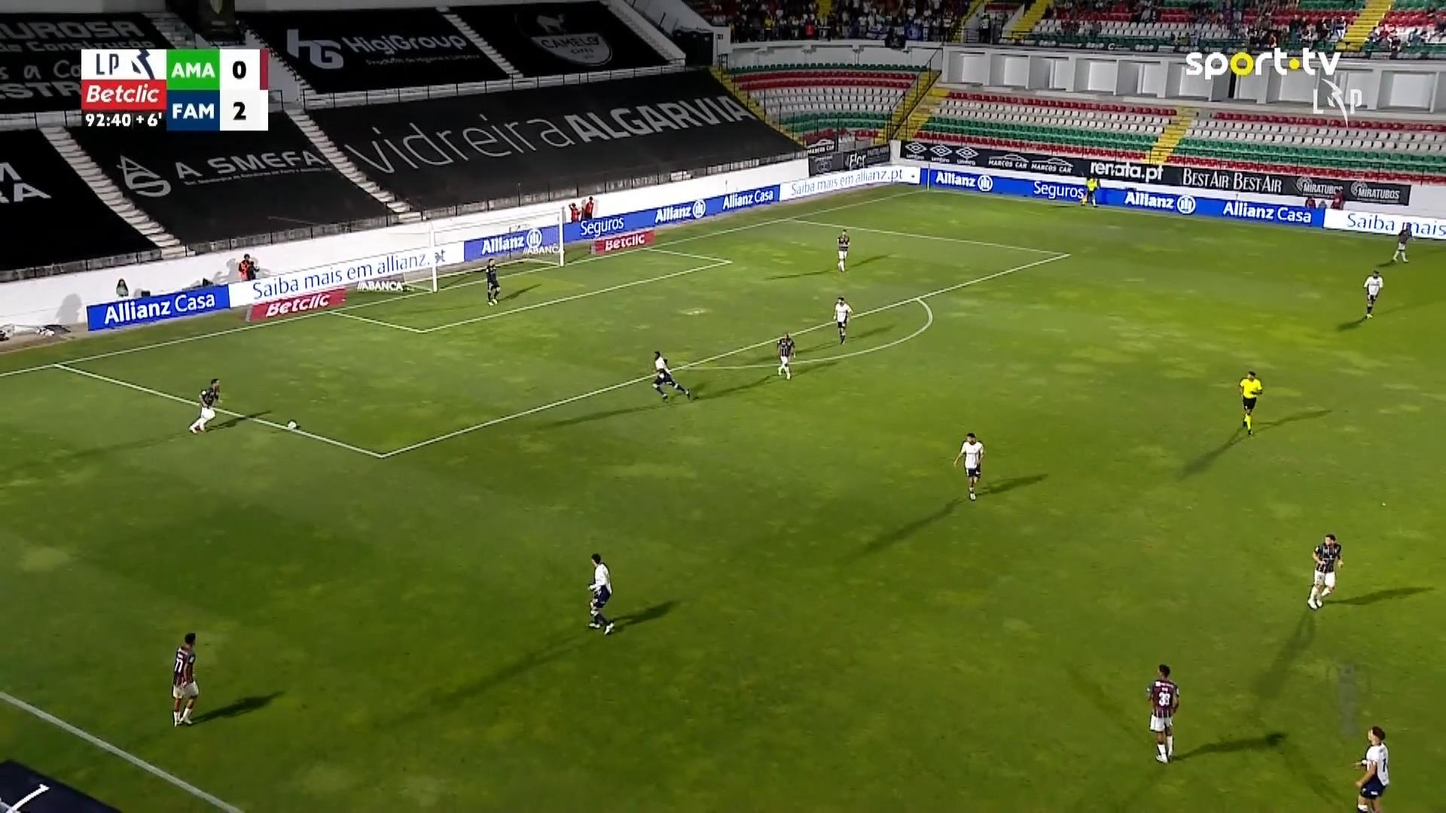ball: (286, 419, 297, 431)
goalkeeper: (484, 258, 500, 306)
player: (1145, 662, 1179, 763), (1353, 725, 1390, 811), (1306, 532, 1343, 610), (170, 632, 200, 726), (585, 552, 615, 635), (953, 431, 984, 501), (651, 350, 691, 401), (188, 377, 221, 434), (1362, 269, 1383, 318), (832, 296, 853, 344), (775, 331, 795, 380), (1391, 221, 1411, 263), (835, 228, 850, 272)
referee: (1238, 370, 1262, 436), (1084, 174, 1099, 205)
